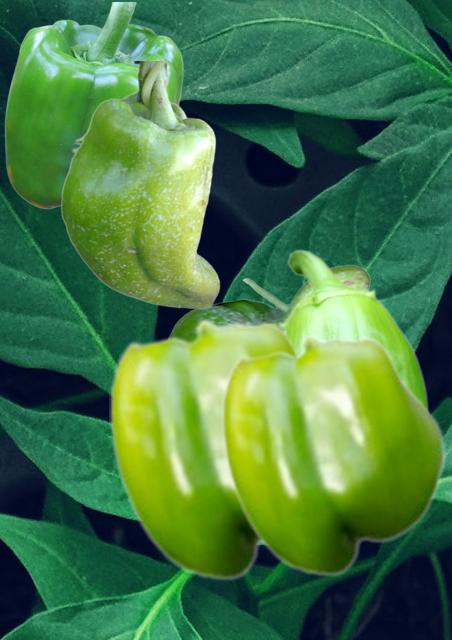bell_pepper: (221, 334, 445, 576), (109, 318, 300, 580), (60, 61, 219, 308), (4, 2, 182, 209), (279, 249, 429, 408), (167, 264, 372, 339)
